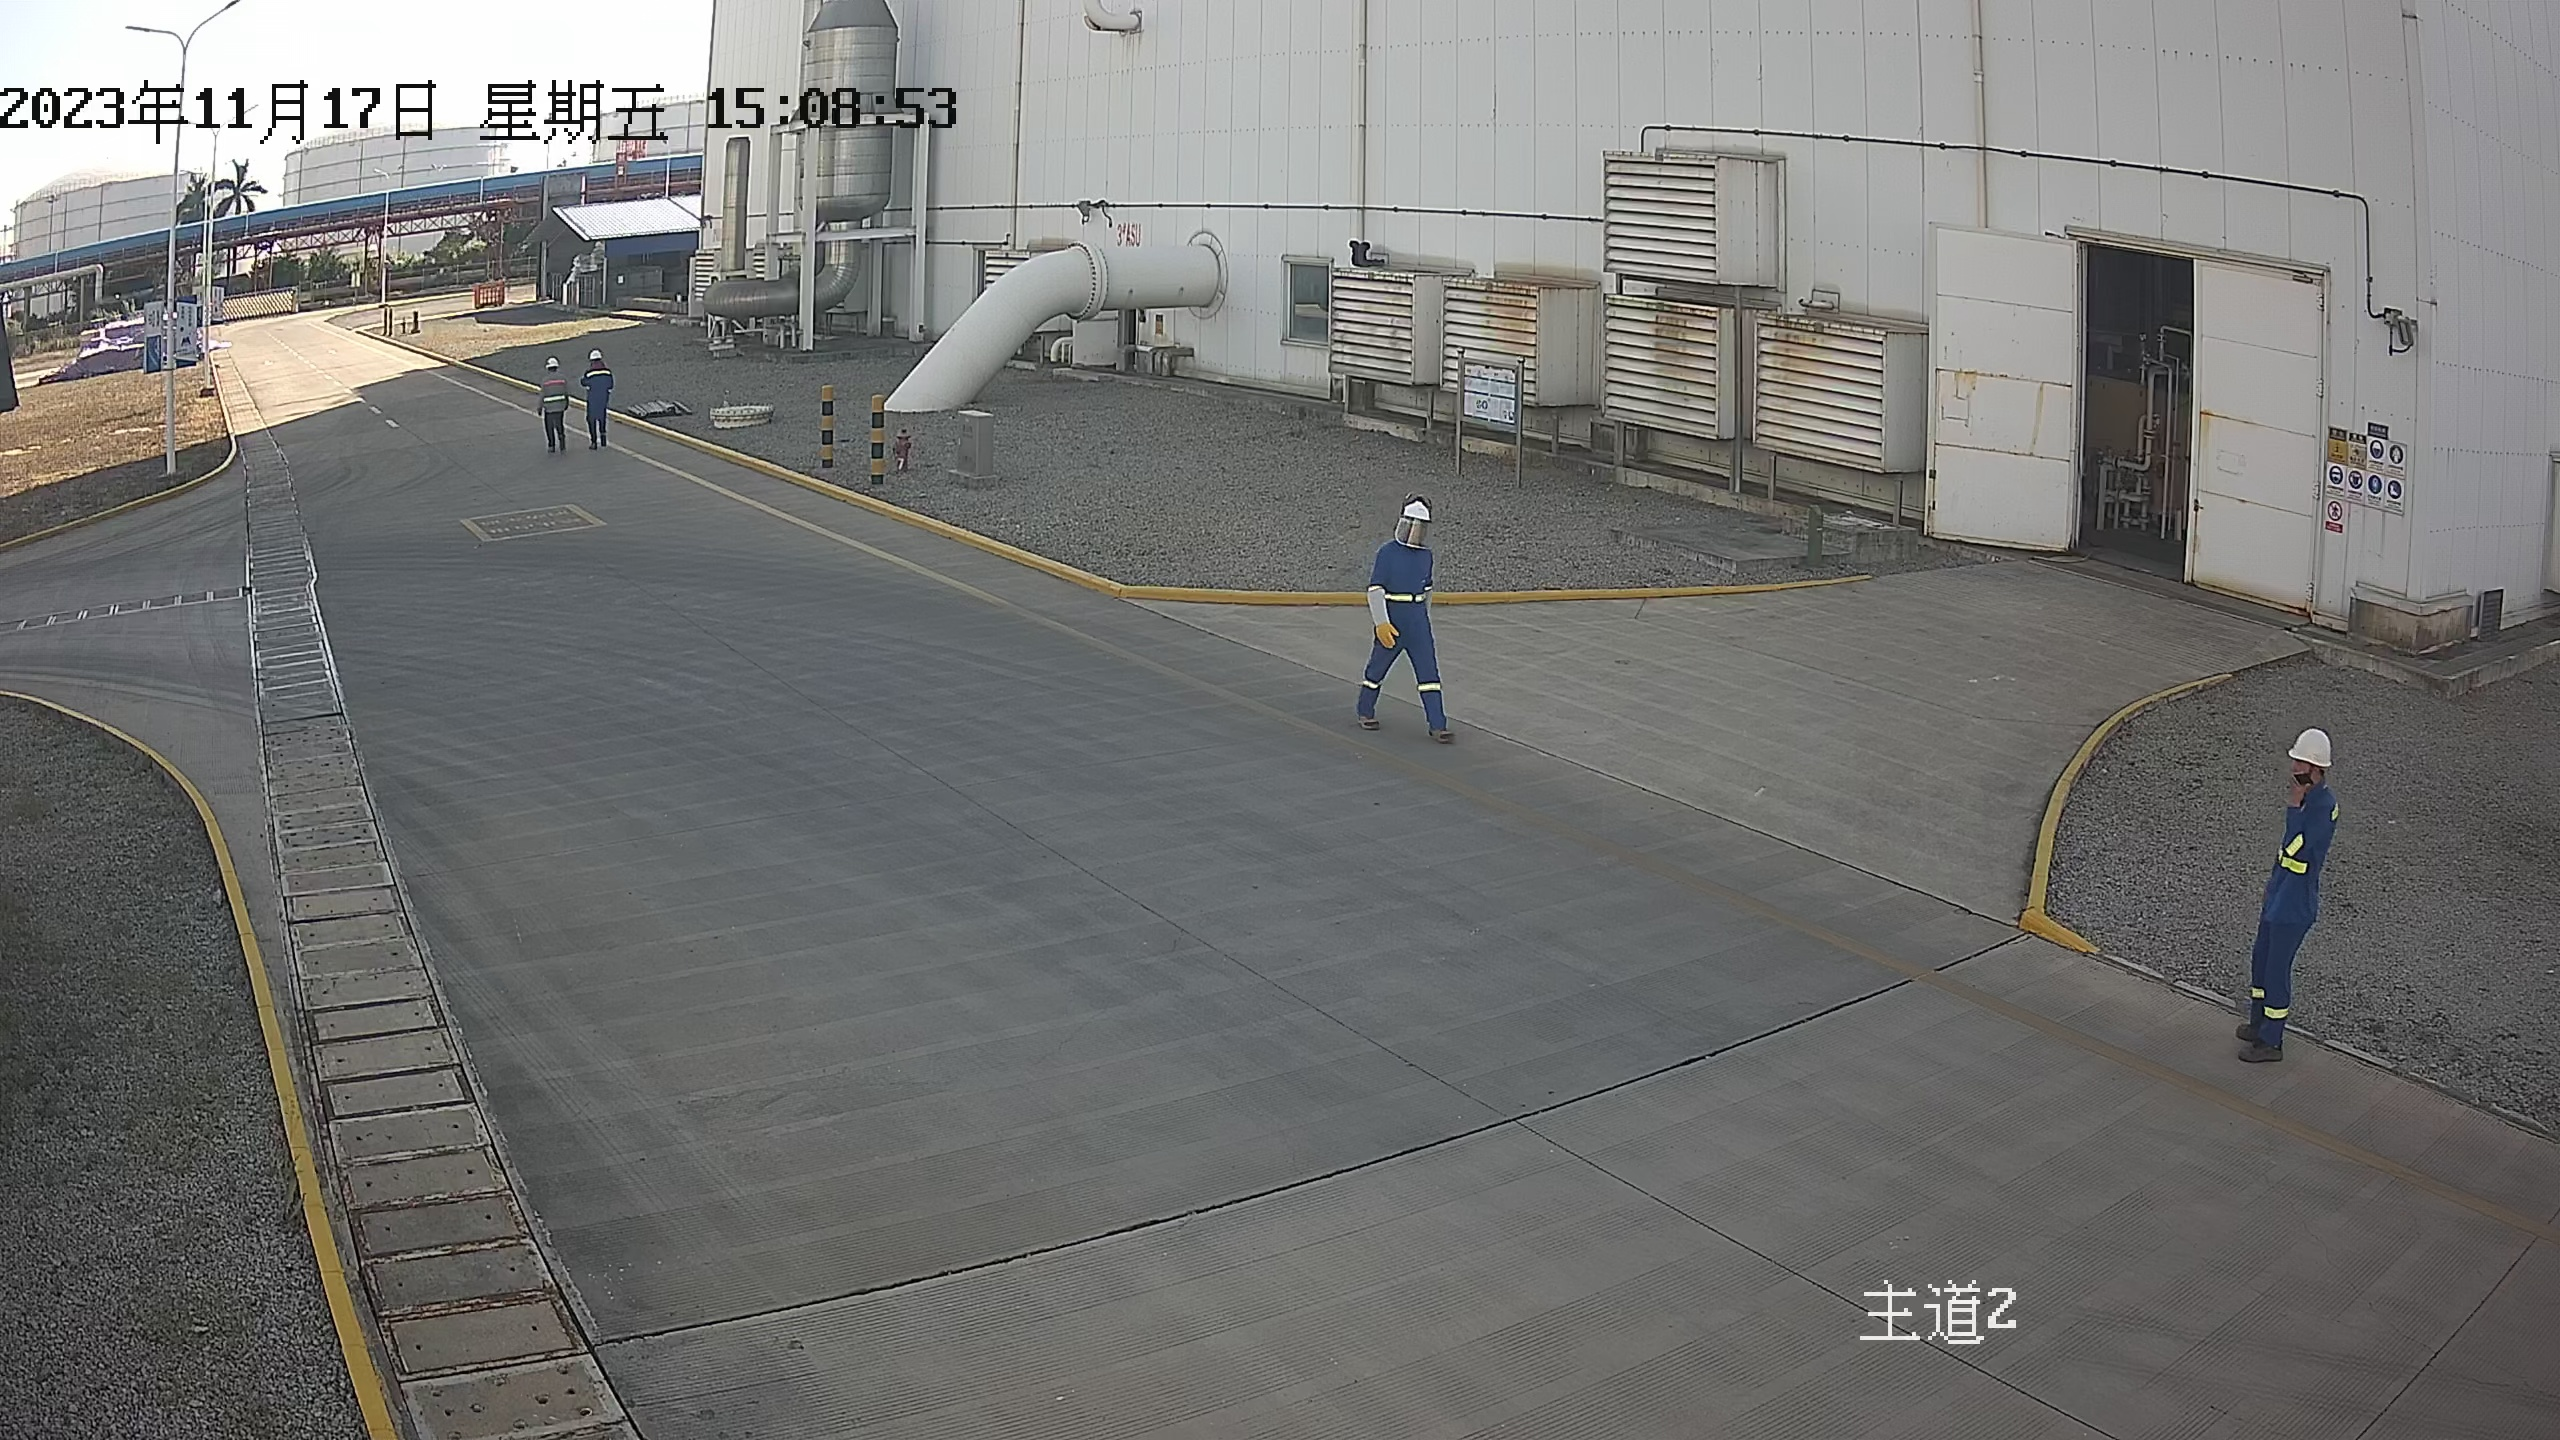Body_without_uniform: (524, 370, 579, 459), (574, 365, 626, 453)
Head_with_Helmet: (2268, 715, 2351, 793), (1380, 485, 1448, 558), (533, 350, 567, 377), (579, 344, 610, 370)
Uniform: (2220, 772, 2395, 1094), (1338, 527, 1488, 759)
